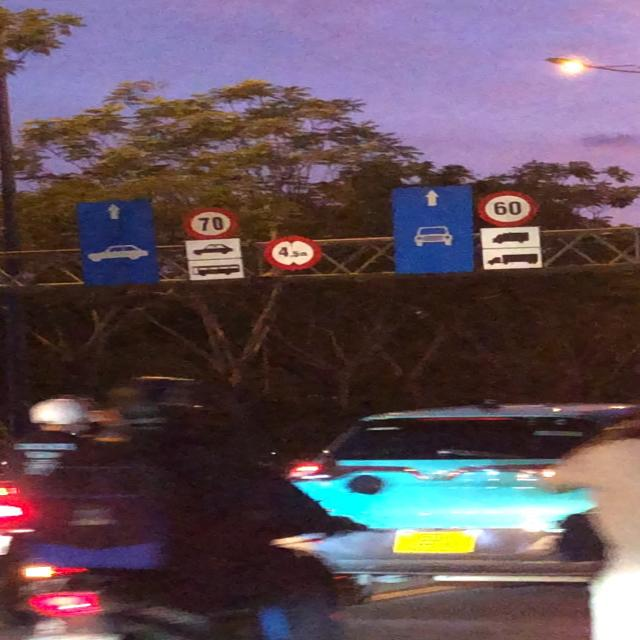Bien bao han che chieu cao: (263, 234, 326, 274)
Bien bao toc do toi da cho phep: (469, 187, 544, 230), (178, 206, 248, 243)
